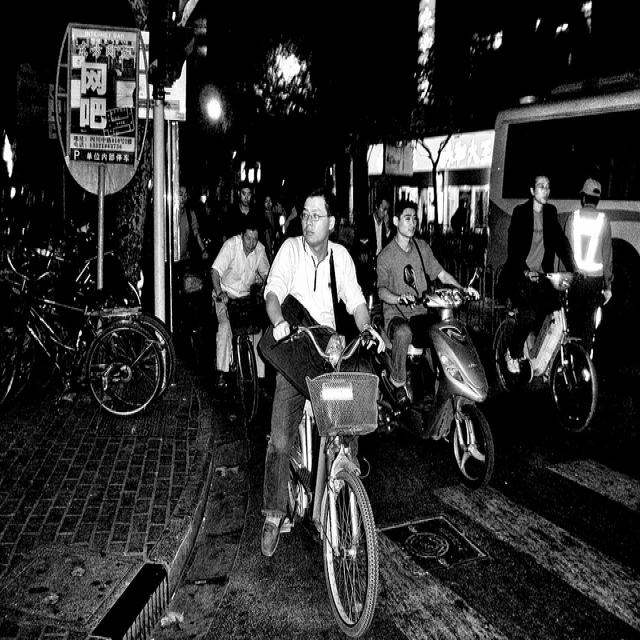motor: (369, 263, 491, 484), (489, 264, 599, 434)
